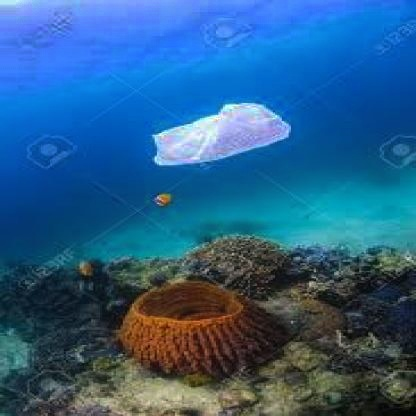pbag: (148, 102, 293, 166)
